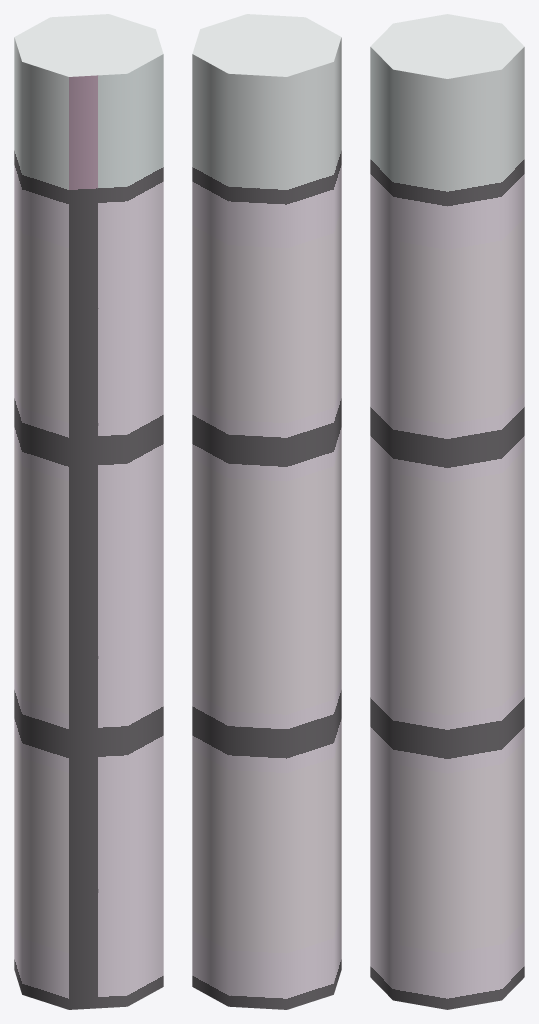
3 renders of one model, left to right at view 1: azimuth 30°, elevation 25°; view 2: azimuth 150°, elevation 25°; view 3: azimuth 270°, elevation 25°, orthographic.
Parts seen in each view (by area): view 1: Joint_0_Object_0; view 2: Joint_0_Object_0; view 3: Joint_0_Object_0.
Part boxes in pixels (box(x1,y1,x2,y2)): Joint_0_Object_0: box(14, 14, 163, 1009); Joint_0_Object_0: box(192, 14, 341, 1009); Joint_0_Object_0: box(370, 14, 524, 1009).
Bounding box in the file's own units: 60 × 400 × 60.
